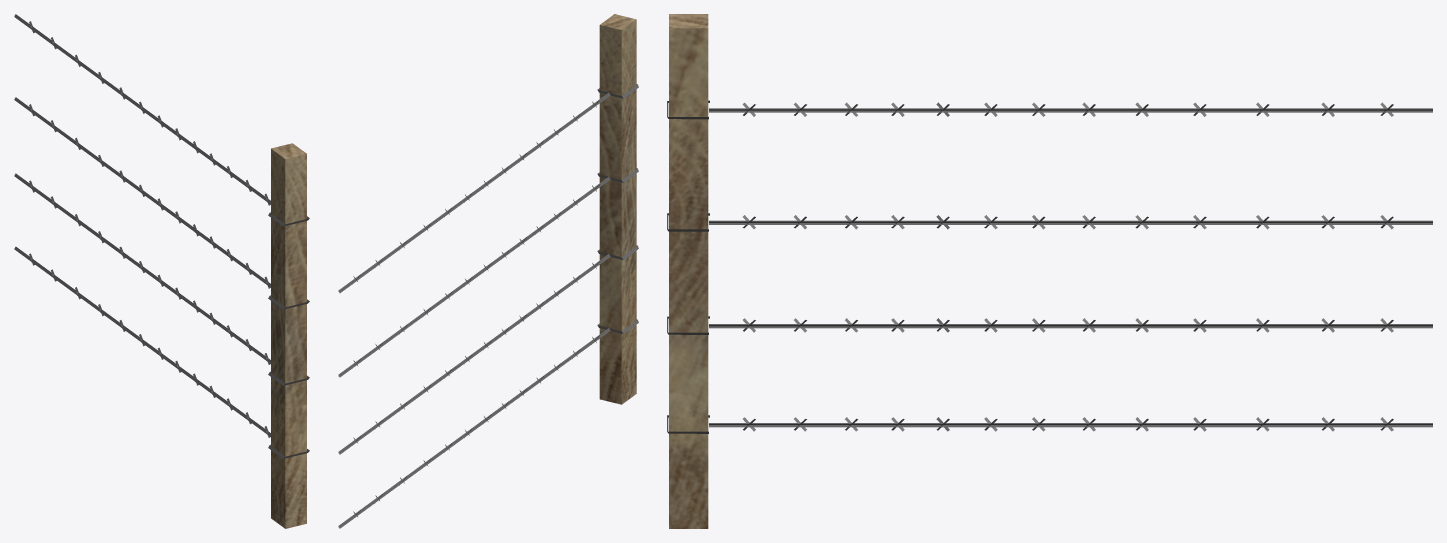
File: barbed-fence-big-no-angle.glb
3 renders of one model, left to right at view 1: azimuth 30°, elevation 25°; view 2: azimuth 150°, elevation 25°; view 3: azimuth 270°, elevation 25°, orthographic. The views are drawn at different scales.
Parts seen in each view (by area): view 1: Cube.024; view 2: Cube.024; view 3: Cube.024.
Boxes of the visible parts, box(x1,y1,x2,y2) form: Cube.024: box(14, 14, 309, 528); Cube.024: box(338, 14, 638, 528); Cube.024: box(667, 14, 1432, 528).
Size of the model in its own units: 0.0941 by 1.28 by 1.77.
Materials: 3 (1 with a texture image).
